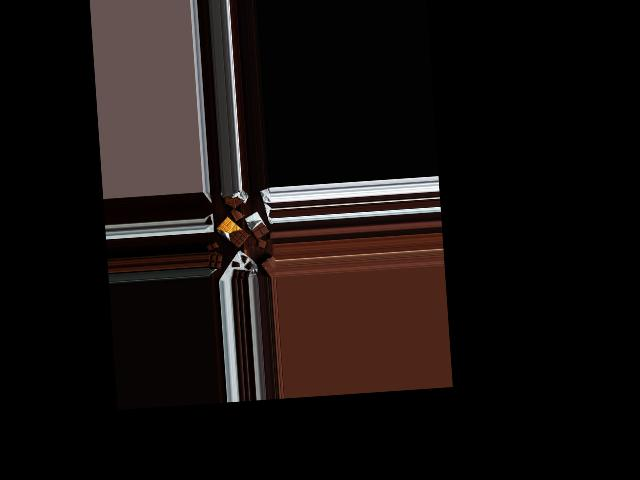chocolate: (243, 212, 271, 239)
